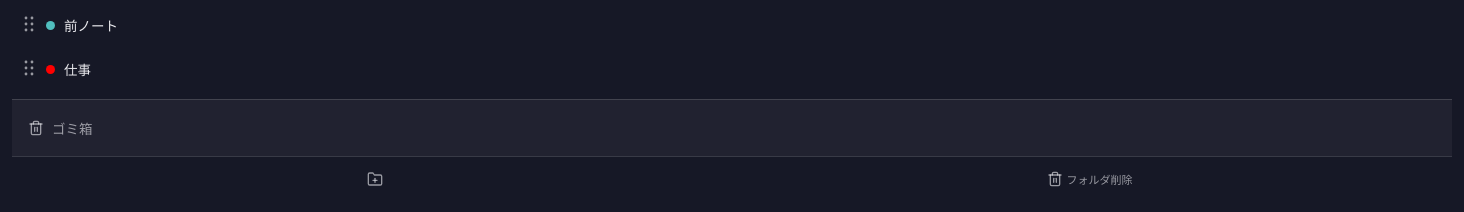
Test case: FolderList › enters folder delete mode when フォルダ削除 is clicked, hides 新しいフォルダを追加, selects a folder without navigating, and deletes it on clicking 削除
This screenshot has width=1464, height=212.
# 「フォルダ削除」ボタンを押して選択モードに入る
Click the button "フォルダ削除": (1090, 179) 733,163 -> 1446,195
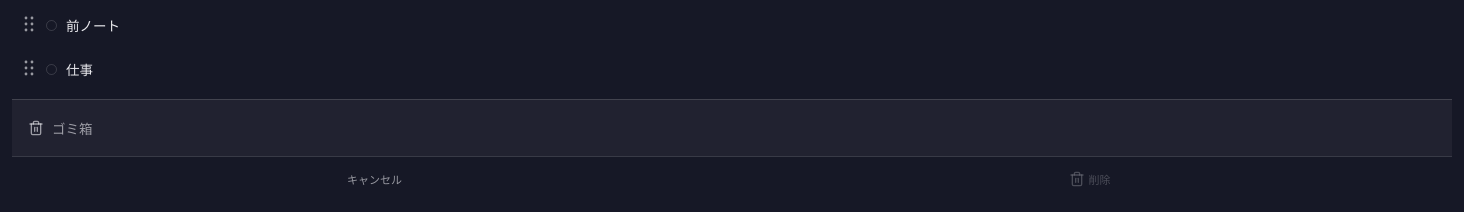
Expected: the button with aria-label "選択したフォルダを削除" is disabled, 733,163 -> 1446,195
Click the button "仕事": (52, 69) 46,47 -> 1452,91
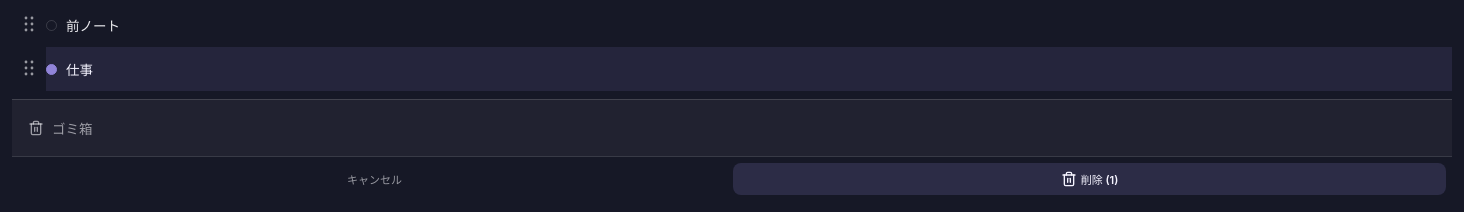
Expected: the button with aria-label "選択したフォルダを削除" is enabled
# 「削除」ボタンを押すと確認ダイアログが出て削除が実行され、選択モードが終了する
Click the button with aria-label "選択したフォルダを削除": (1090, 179) 733,163 -> 1446,195
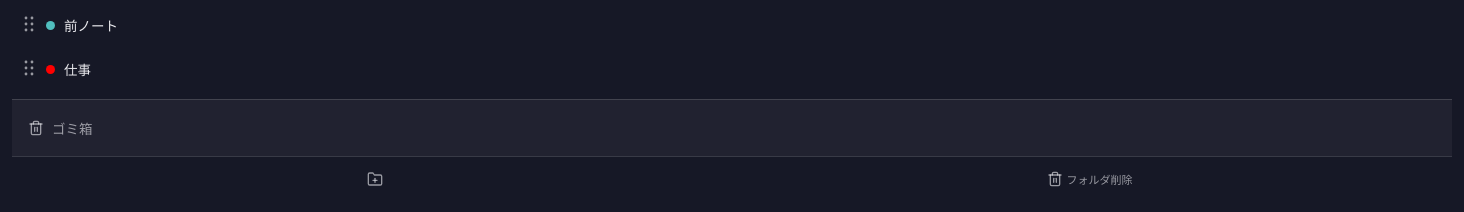
Expected: the button "フォルダ削除" is shown, 733,163 -> 1446,195
